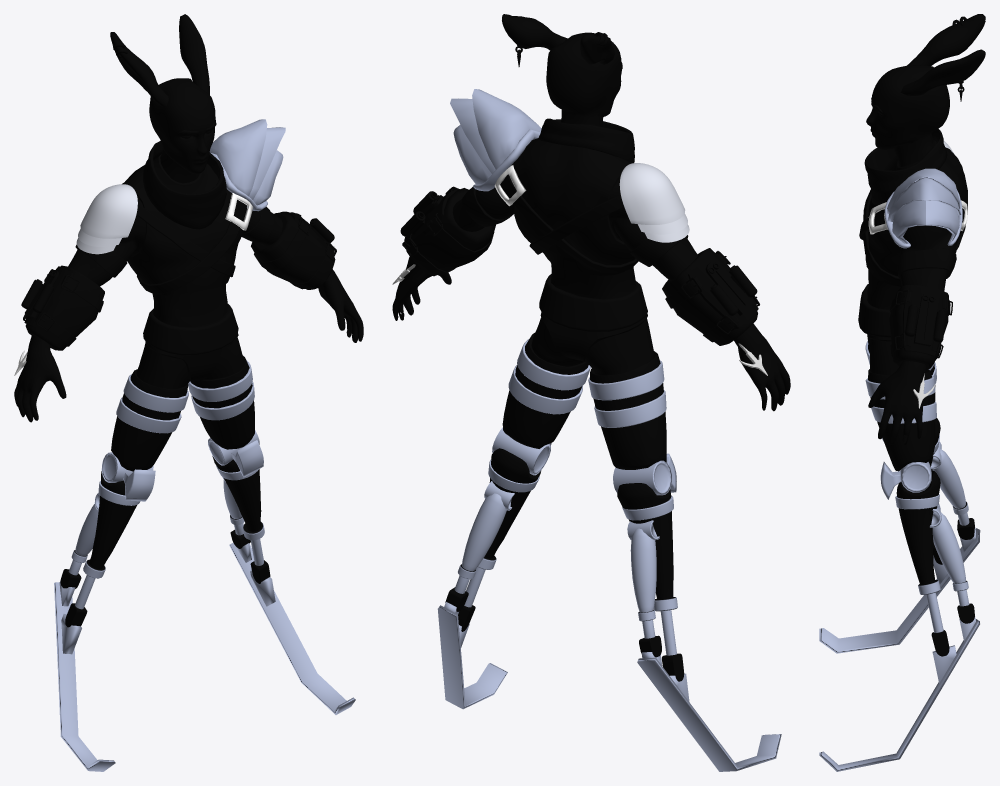
File: GreyhareUnrigged_fbx_005.fbx
The picture shows the model from 3 angles, left to right: view 1: azimuth 30°, elevation 25°; view 2: azimuth 150°, elevation 25°; view 3: azimuth 270°, elevation 25°; orthographic projection. The views are drawn at different scales.
Parts seen in each view (by area): view 1: GreyHare_Low; view 2: GreyHare_Low; view 3: GreyHare_Low.
Part boxes in pixels (x1,y1,x2,y2): GreyHare_Low: (14,14,363,771); GreyHare_Low: (392,14,790,771); GreyHare_Low: (819,14,985,771).
Size of the model in its own units: 1.09 by 2.07 by 0.4598.
